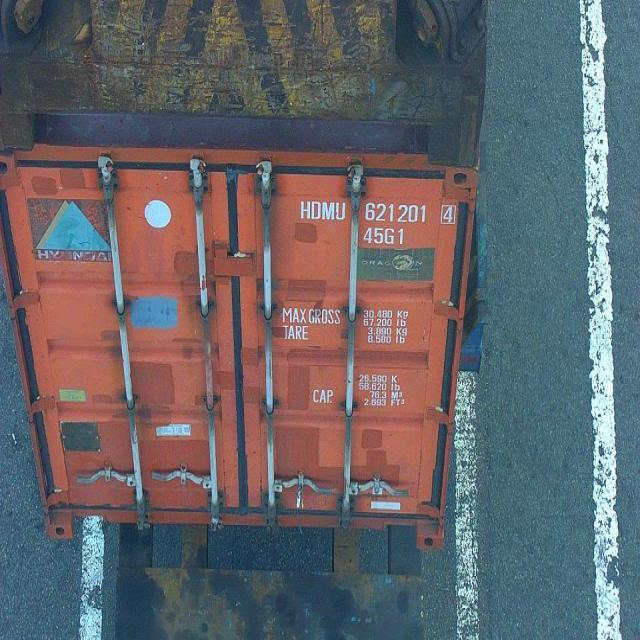ISO: (362, 226, 406, 246)
container_number: (299, 202, 462, 225)
